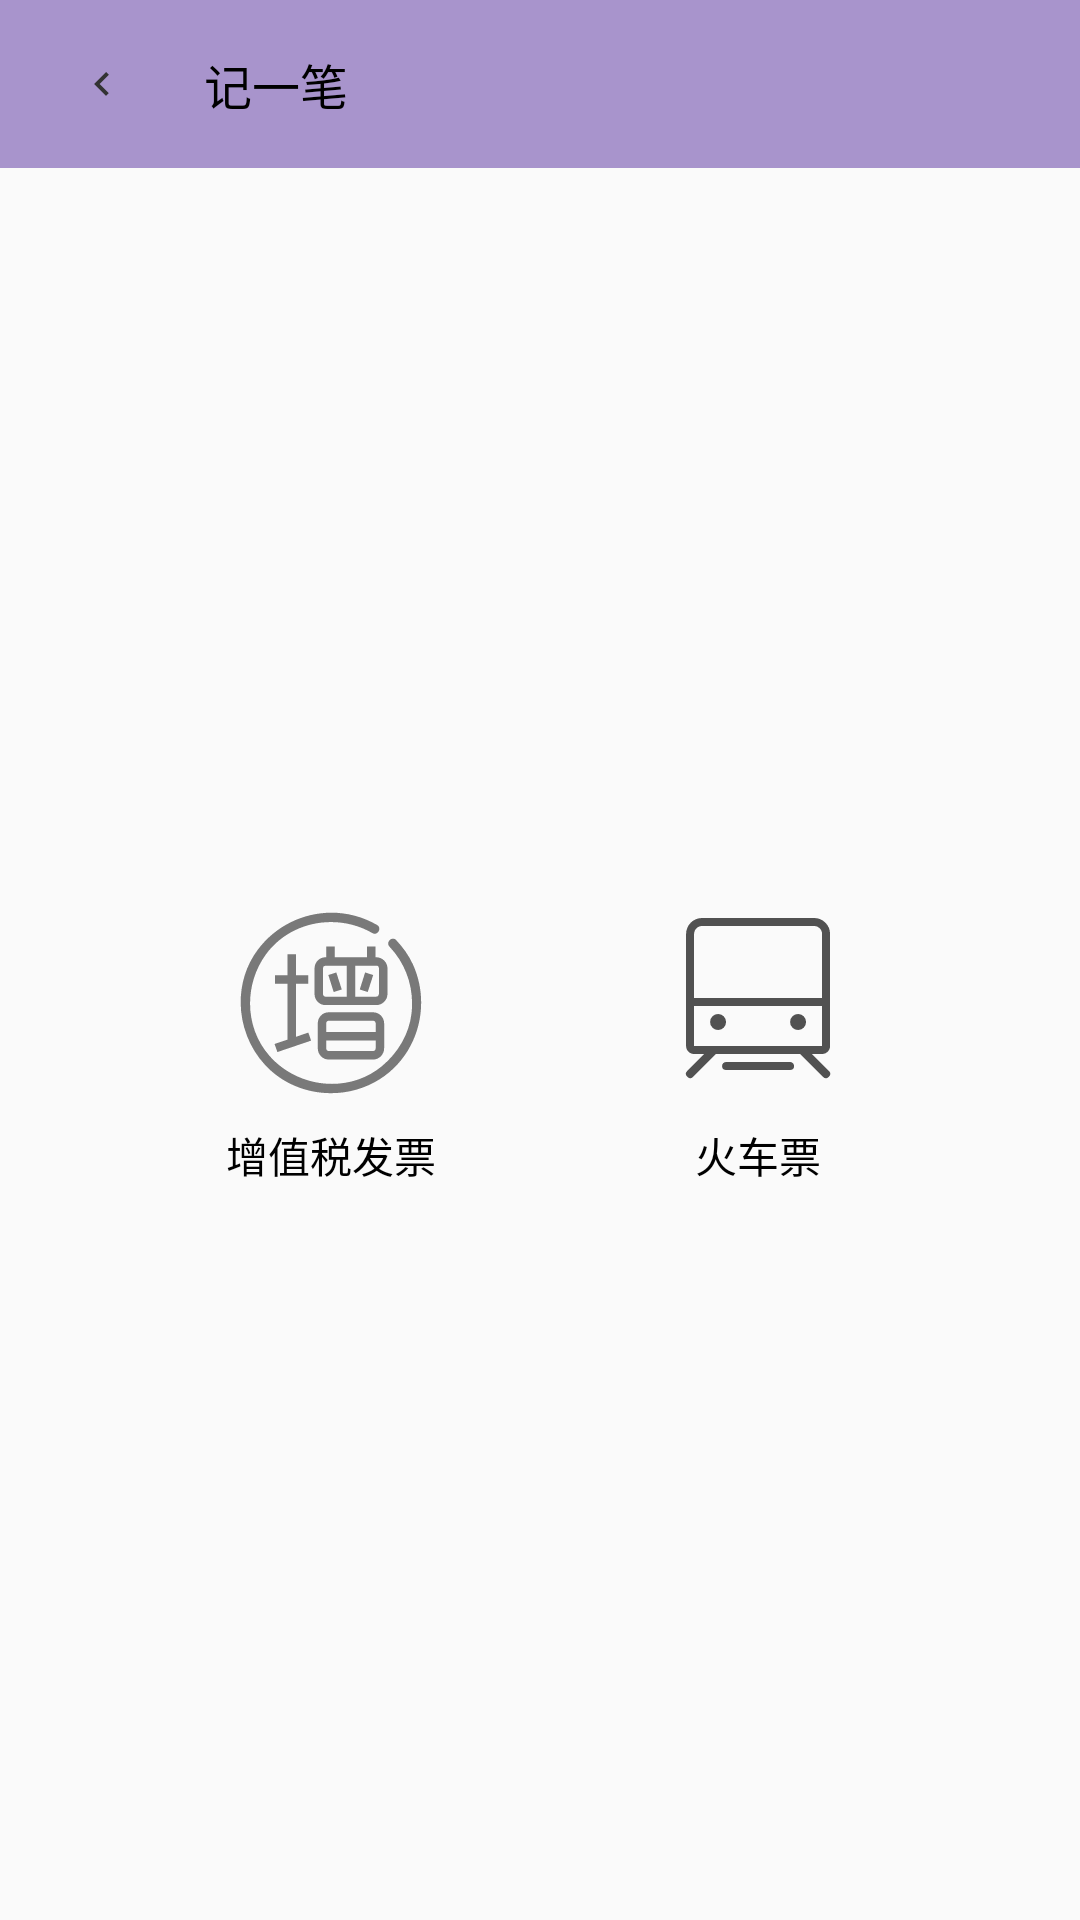

Point at icon controls on the screen. Image size 1080*1920, points as (x=x, y=y).
返回: (x=101, y=84)
